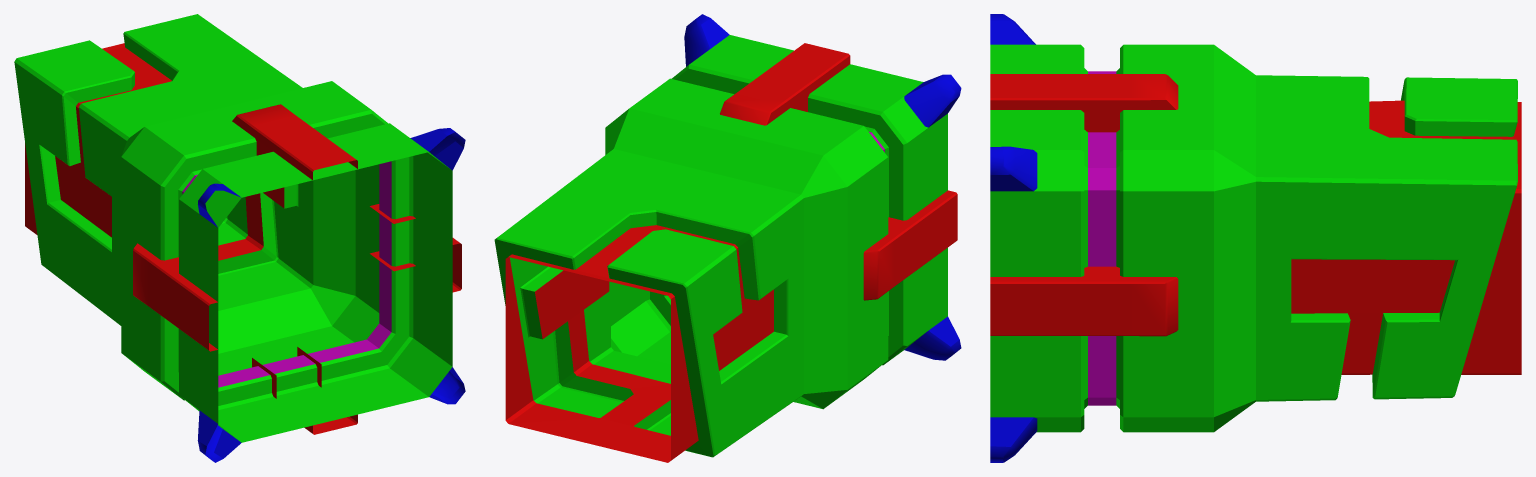
File: MePilierPieds.FBX
3 views of the same model, side by side, from view 1: azimuth 30°, elevation 25°; view 2: azimuth 150°, elevation 25°; view 3: azimuth 270°, elevation 25° (orthographic). The views are drawn at different scales.
Visible parts, largest first — view 1: tete; view 2: tete; view 3: tete.
Boxes of the visible parts, left/top/right/bottom form: tete: left=14, top=14, right=465, bottom=462; tete: left=494, top=14, right=961, bottom=462; tete: left=990, top=14, right=1521, bottom=462.
Bounding box in the file's own units: 0.9778 × 0.9778 × 1.5.
